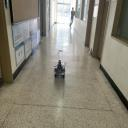cart: (54, 62, 66, 79)
